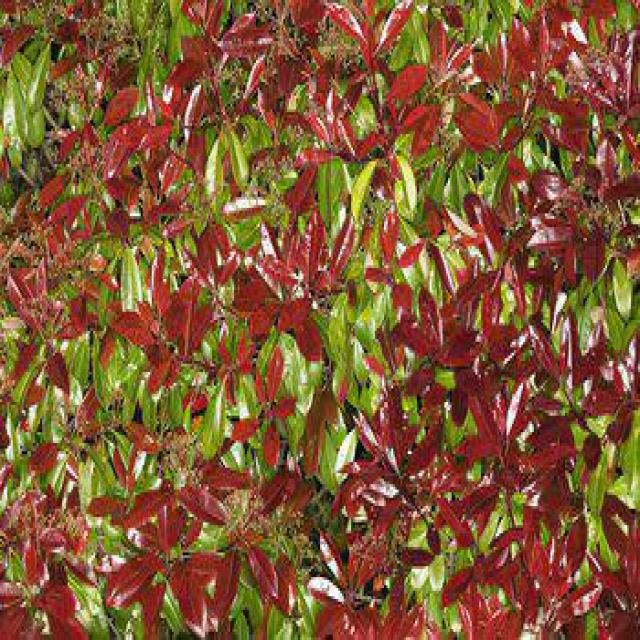other: (2, 0, 631, 632)
